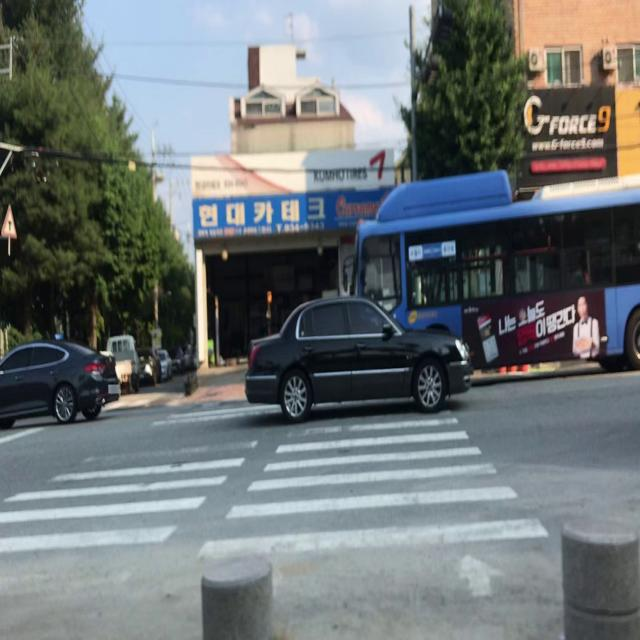횡단보도: (0, 402, 552, 601)
